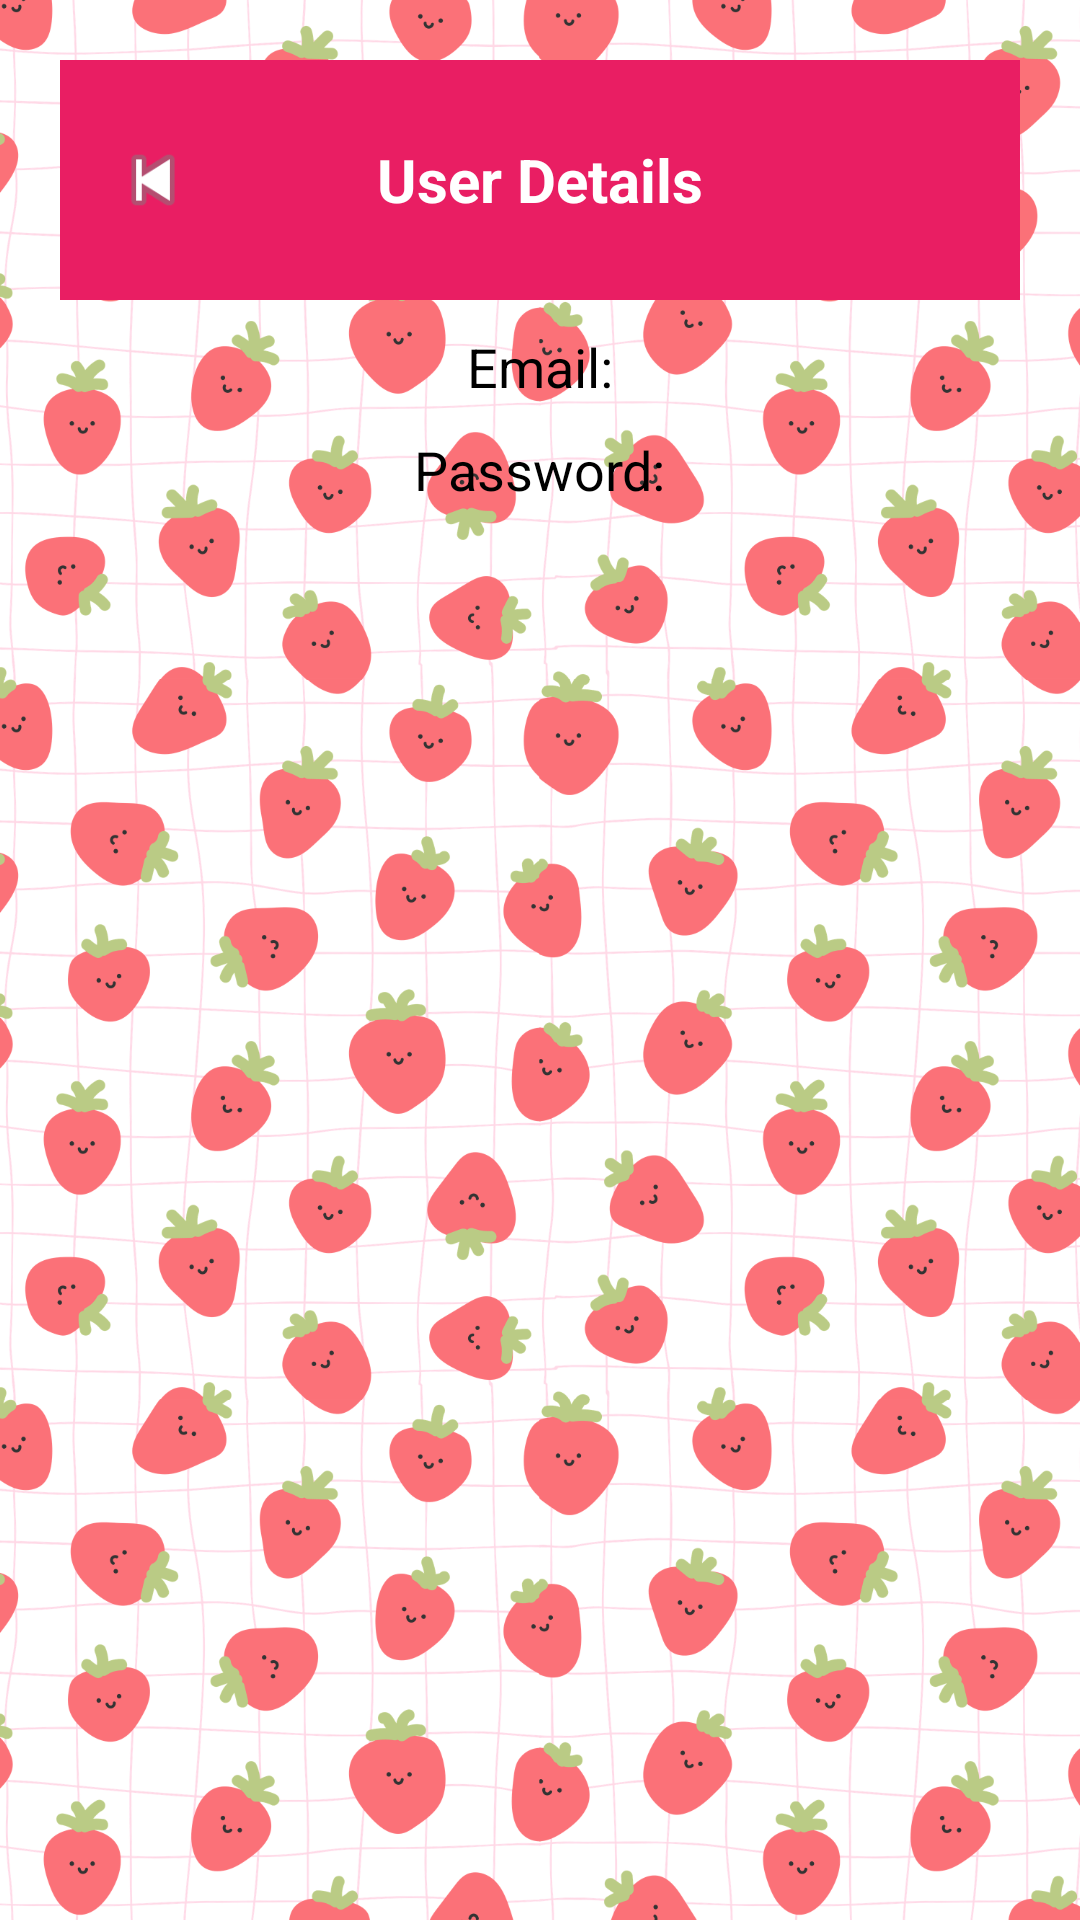

Icon click points for this 1080px x 1920px phone screenshot, format (x,y):
previous: (153,180)
